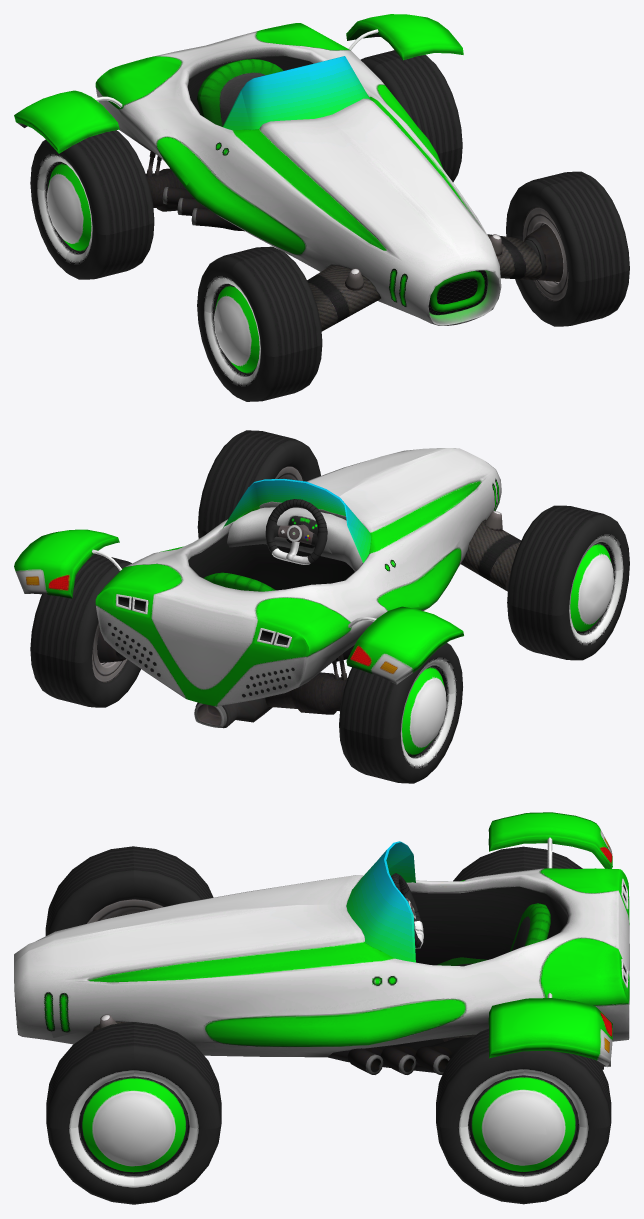
Rendered from car.obj.
The picture shows the model from 3 angles, top to bottom: view 1: azimuth 30°, elevation 25°; view 2: azimuth 150°, elevation 25°; view 3: azimuth 270°, elevation 25°; orthographic projection. The views are drawn at different scales.
Parts seen in each view (by area): view 1: Mesh_0068; view 2: Mesh_0068; view 3: Mesh_0068.
Boxes of the visible parts, box(x1,y1,x2,y2) form: Mesh_0068: box(14, 14, 629, 401); Mesh_0068: box(14, 430, 629, 783); Mesh_0068: box(14, 812, 629, 1204).
Size of the model in its own units: 4.67 by 2.31 by 5.24.
